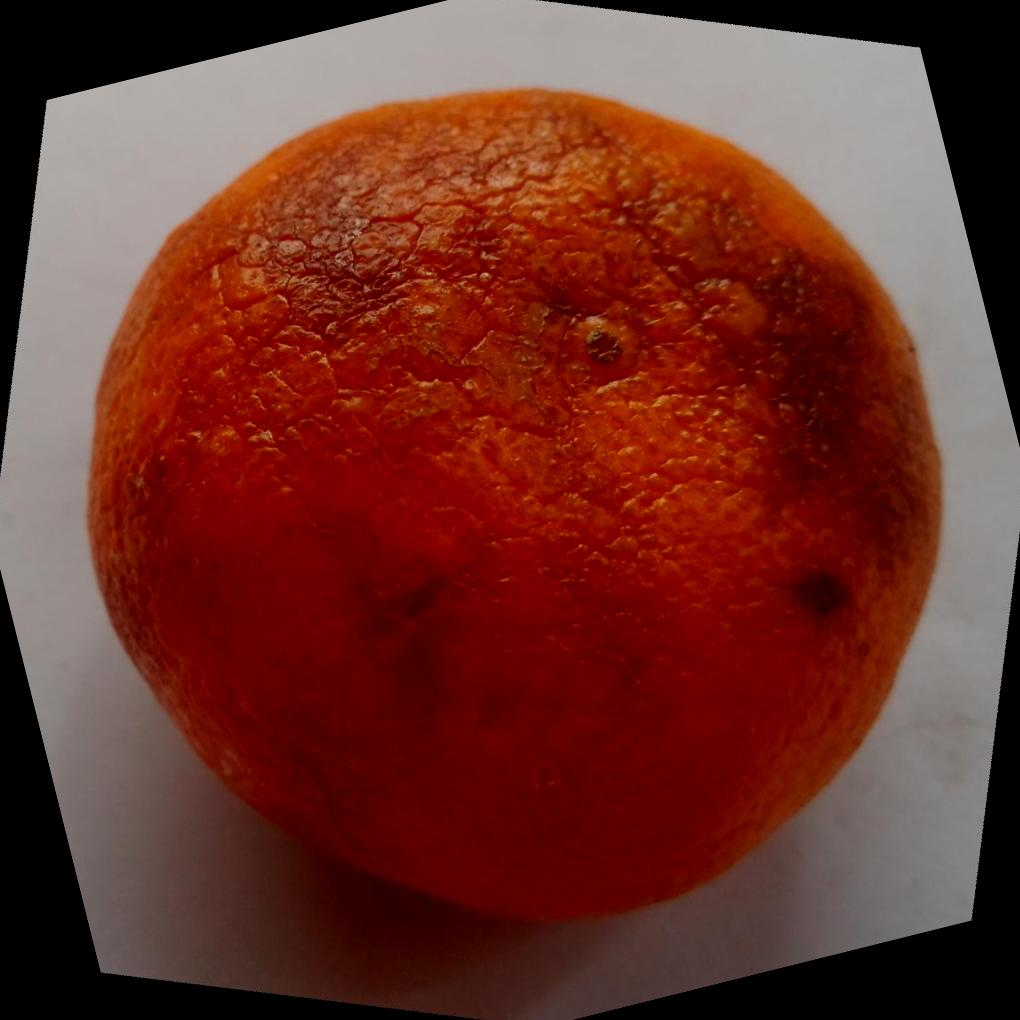FreshOrange: (78, 82, 944, 925)
